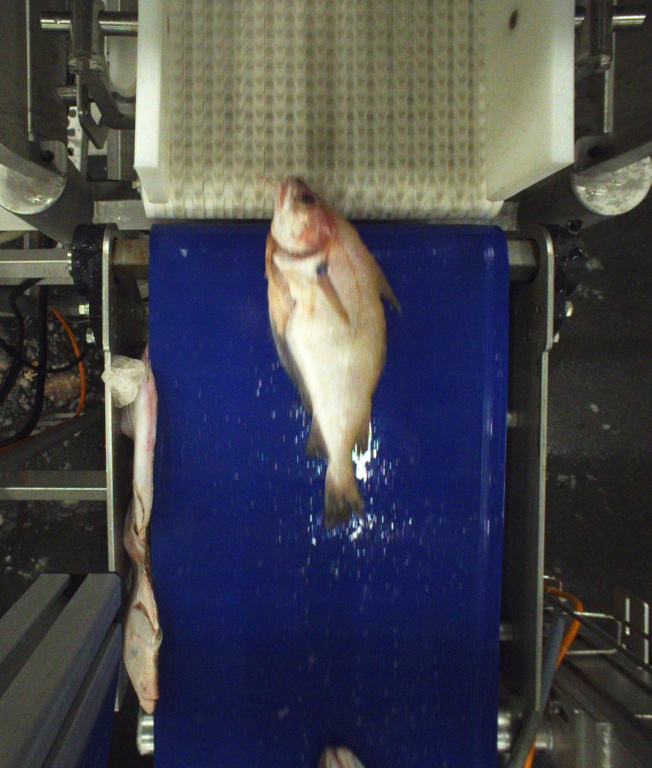BIB: (311, 746, 386, 768)
